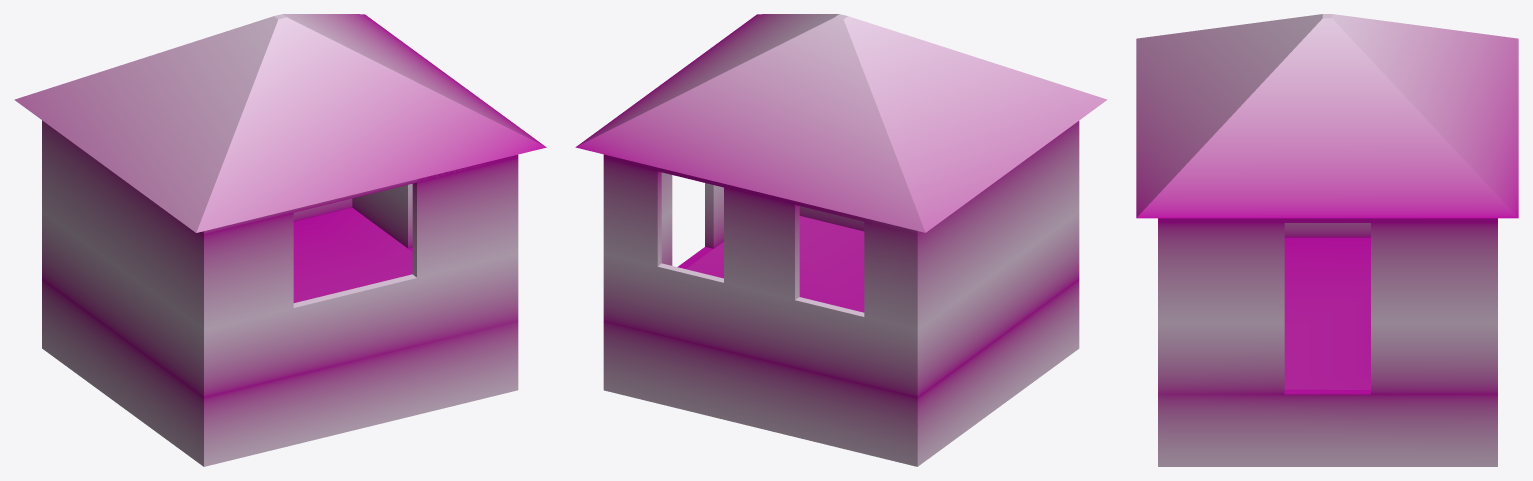
3 views of the same model, side by side, from view 1: azimuth 30°, elevation 25°; view 2: azimuth 150°, elevation 25°; view 3: azimuth 270°, elevation 25° (orthographic). The views are drawn at different scales.
Visible parts, largest first — view 1: Cube; view 2: Cube; view 3: Cube.
Boxes of the visible parts, <box> form: Cube: <box>14,14,546,466</box>; Cube: <box>575,14,1107,466</box>; Cube: <box>1136,14,1518,466</box>.
Bounding box in the file's own units: 1000 × 961 × 900.
